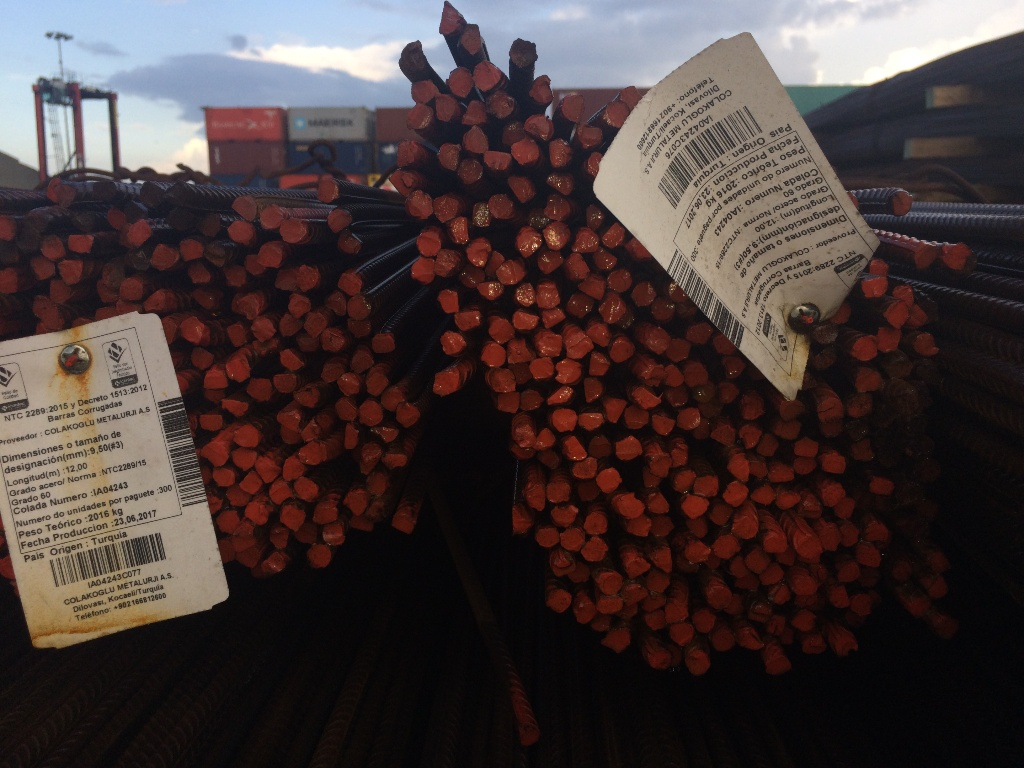dipstick: (473, 60, 499, 91), (510, 38, 538, 66), (439, 2, 463, 34), (943, 241, 968, 271), (408, 192, 435, 219), (435, 249, 462, 276), (517, 228, 541, 258), (152, 244, 179, 270), (462, 126, 488, 153), (544, 223, 570, 250), (400, 40, 425, 68), (466, 238, 490, 267), (450, 66, 472, 97), (527, 115, 554, 140), (576, 123, 603, 148), (794, 533, 821, 558), (180, 315, 204, 343), (461, 99, 485, 127), (487, 94, 515, 118), (550, 139, 573, 168), (407, 103, 432, 129), (566, 334, 592, 359), (459, 158, 483, 185), (411, 257, 435, 284), (602, 630, 629, 654), (530, 75, 552, 104), (462, 25, 483, 55), (167, 182, 192, 207), (488, 319, 513, 344), (616, 435, 641, 460), (765, 649, 790, 674), (513, 139, 539, 163), (433, 197, 459, 221), (556, 359, 582, 383), (847, 395, 873, 419), (852, 336, 876, 362), (191, 287, 218, 310), (498, 261, 525, 284), (600, 296, 623, 323), (17, 226, 39, 254), (906, 437, 934, 459), (563, 94, 584, 123), (347, 295, 371, 320), (538, 251, 563, 275), (433, 370, 458, 394), (912, 357, 937, 381), (902, 412, 927, 436), (548, 172, 574, 195), (885, 303, 907, 330), (604, 103, 628, 127), (546, 196, 570, 220), (489, 194, 513, 218), (568, 295, 592, 319), (508, 340, 532, 364), (538, 334, 562, 358), (42, 235, 65, 260), (282, 218, 305, 243), (226, 356, 249, 381), (327, 209, 352, 232), (509, 178, 534, 201), (389, 172, 414, 195), (536, 284, 559, 309), (607, 269, 632, 292), (437, 143, 459, 169), (489, 370, 515, 392), (912, 463, 940, 483), (233, 197, 257, 220), (358, 402, 381, 426), (411, 80, 435, 103), (686, 651, 709, 675), (724, 483, 747, 507), (139, 181, 161, 206), (228, 222, 253, 244), (202, 443, 227, 465), (552, 409, 577, 431), (877, 330, 902, 352), (648, 328, 669, 354), (712, 536, 738, 557), (737, 628, 763, 649), (634, 389, 661, 409), (280, 507, 303, 530), (417, 233, 440, 256), (546, 589, 569, 612), (589, 434, 612, 457), (685, 363, 708, 386), (60, 259, 82, 283), (143, 289, 167, 311), (234, 425, 258, 447), (258, 458, 280, 482), (308, 545, 330, 569), (441, 332, 465, 354), (600, 572, 622, 596), (598, 468, 620, 492), (632, 281, 654, 305), (200, 212, 221, 237), (567, 253, 588, 278), (683, 497, 708, 518), (817, 398, 842, 419), (876, 444, 901, 465), (30, 258, 56, 278), (435, 95, 455, 121), (546, 385, 572, 405), (204, 243, 226, 266), (168, 209, 191, 231), (259, 205, 282, 227), (276, 268, 298, 291), (322, 328, 344, 351), (295, 478, 318, 500), (321, 524, 344, 546), (396, 404, 419, 426), (583, 538, 606, 560), (856, 370, 879, 392), (872, 403, 895, 425), (247, 379, 271, 400), (345, 491, 366, 515), (365, 372, 386, 396), (381, 386, 402, 410), (451, 217, 469, 245), (481, 345, 505, 366), (619, 496, 643, 517), (609, 341, 633, 362), (781, 399, 805, 420), (552, 506, 577, 526), (579, 278, 604, 298), (814, 325, 839, 345), (132, 220, 151, 246), (234, 524, 253, 550), (526, 484, 545, 510), (586, 204, 605, 230), (606, 398, 625, 424), (252, 318, 274, 340), (191, 346, 213, 368), (245, 502, 267, 524), (269, 482, 291, 504), (561, 529, 583, 551), (693, 610, 715, 632), (644, 365, 666, 387), (668, 339, 690, 361), (531, 357, 554, 378), (497, 392, 520, 413), (553, 552, 574, 575), (624, 585, 647, 606), (584, 513, 607, 534), (676, 408, 699, 429), (914, 334, 937, 355), (239, 295, 259, 319), (574, 458, 598, 478), (574, 231, 598, 251), (651, 414, 675, 434), (864, 522, 888, 542), (861, 278, 885, 298), (68, 234, 93, 253), (397, 141, 416, 166), (579, 412, 604, 431), (668, 625, 693, 644), (741, 423, 760, 448), (768, 463, 793, 482), (822, 526, 841, 551), (908, 518, 933, 537), (454, 312, 480, 330), (893, 189, 911, 215), (180, 239, 202, 260), (280, 316, 302, 337), (263, 552, 284, 574), (336, 399, 357, 421), (566, 437, 587, 459), (603, 225, 624, 247), (723, 355, 744, 377), (857, 545, 879, 566), (813, 349, 835, 370), (929, 552, 950, 574), (392, 514, 415, 534), (366, 472, 386, 495), (505, 120, 525, 143), (621, 86, 641, 109), (519, 391, 542, 411), (625, 409, 648, 429), (833, 633, 856, 653), (896, 392, 919, 412), (187, 264, 211, 283), (203, 369, 227, 388), (536, 529, 560, 548), (546, 484, 570, 503), (584, 377, 603, 401), (687, 324, 711, 343), (694, 477, 718, 496), (299, 265, 317, 290), (512, 509, 530, 534), (730, 455, 748, 480), (485, 152, 511, 169), (280, 350, 301, 371), (289, 295, 310, 316), (299, 442, 320, 463), (515, 425, 536, 446), (651, 456, 672, 477), (714, 334, 735, 355), (712, 630, 733, 651), (121, 280, 143, 300), (233, 450, 255, 470), (239, 473, 261, 493), (338, 233, 360, 253), (589, 353, 609, 375), (686, 540, 708, 560), (748, 550, 768, 572), (752, 485, 774, 505), (914, 248, 936, 268), (93, 180, 116, 199), (259, 246, 282, 265), (227, 324, 246, 347), (217, 511, 236, 534), (314, 506, 337, 525), (296, 524, 319, 543), (516, 283, 535, 306), (514, 311, 537, 330), (542, 309, 565, 328), (652, 548, 671, 571), (652, 300, 675, 319), (666, 364, 685, 387), (712, 427, 735, 446), (794, 439, 818, 457), (777, 420, 801, 438), (96, 282, 117, 302), (283, 458, 304, 478), (339, 274, 360, 294), (509, 364, 530, 384), (578, 482, 599, 502), (594, 250, 615, 270), (652, 517, 673, 537), (821, 485, 841, 506), (823, 453, 844, 473), (927, 576, 947, 597), (50, 280, 69, 302), (306, 314, 325, 336), (296, 387, 318, 406), (351, 353, 373, 372), (318, 180, 337, 202), (439, 291, 458, 313), (538, 451, 560, 470), (665, 387, 687, 406), (675, 471, 694, 493), (648, 494, 670, 513), (734, 519, 756, 538), (273, 374, 296, 392), (213, 468, 236, 486), (460, 268, 483, 286), (472, 204, 489, 228), (226, 265, 246, 285), (587, 152, 603, 177), (576, 603, 596, 623), (711, 505, 731, 525), (709, 586, 729, 606), (910, 304, 926, 329), (34, 296, 55, 315), (129, 251, 150, 270), (339, 374, 358, 395), (666, 605, 687, 624), (649, 650, 670, 669), (630, 239, 651, 258), (589, 325, 608, 346), (742, 401, 763, 420), (227, 489, 249, 507), (217, 541, 235, 563), (372, 335, 394, 353), (648, 573, 670, 591), (720, 382, 738, 404), (777, 491, 799, 509), (889, 358, 911, 376), (896, 486, 918, 504), (348, 320, 371, 337), (479, 282, 502, 299), (802, 637, 825, 654), (852, 442, 875, 459), (1, 269, 17, 293), (760, 433, 776, 457), (918, 385, 934, 409), (73, 212, 93, 231), (645, 612, 665, 631), (769, 586, 789, 605), (909, 595, 929, 614), (104, 264, 122, 285), (279, 412, 300, 430), (527, 210, 548, 228), (734, 577, 759, 592), (628, 518, 650, 535), (199, 414, 222, 430), (383, 453, 406, 469), (329, 292, 345, 315), (694, 382, 713, 401), (322, 363, 342, 381), (302, 420, 320, 440), (343, 425, 358, 449), (537, 428, 555, 448), (571, 563, 589, 583), (669, 281, 687, 301), (801, 494, 819, 514), (840, 562, 858, 582), (830, 587, 848, 607), (921, 500, 941, 518), (892, 562, 912, 580), (1, 245, 18, 266), (245, 255, 266, 272), (239, 549, 260, 566), (762, 566, 783, 583), (700, 400, 722, 416), (671, 444, 687, 466), (223, 401, 248, 415), (488, 251, 502, 276), (597, 599, 622, 613), (367, 502, 385, 521), (794, 612, 813, 630), (58, 185, 75, 205), (270, 527, 287, 547), (749, 603, 769, 620), (853, 595, 870, 615), (935, 619, 955, 636), (107, 207, 123, 228), (794, 457, 815, 473), (627, 560, 649, 575), (793, 579, 815, 594), (841, 524, 856, 546), (42, 314, 60, 332), (749, 460, 767, 478), (822, 420, 841, 437), (895, 286, 914, 303), (94, 306, 115, 321), (870, 478, 891, 493), (845, 423, 866, 438), (376, 427, 398, 441), (731, 558, 748, 576), (836, 499, 853, 517), (26, 216, 45, 232), (299, 334, 318, 350), (362, 444, 381, 460), (645, 596, 664, 612), (687, 519, 706, 535), (1, 219, 16, 239), (765, 536, 785, 551), (349, 517, 372, 530), (668, 645, 682, 666), (593, 615, 610, 632), (767, 618, 784, 635), (48, 177, 60, 201), (643, 469, 659, 487), (868, 260, 886, 276), (281, 429, 300, 444), (206, 494, 221, 512), (116, 302, 140, 313), (253, 341, 275, 353), (778, 549, 794, 565), (620, 605, 637, 620), (205, 390, 226, 402), (621, 309, 634, 328), (514, 447, 534, 459), (121, 224, 131, 247), (728, 598, 742, 612)
